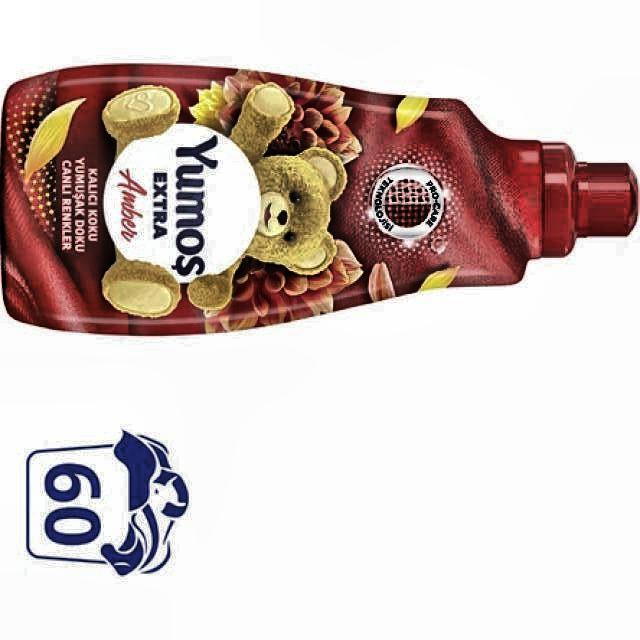plastic: (0, 64, 639, 334)
